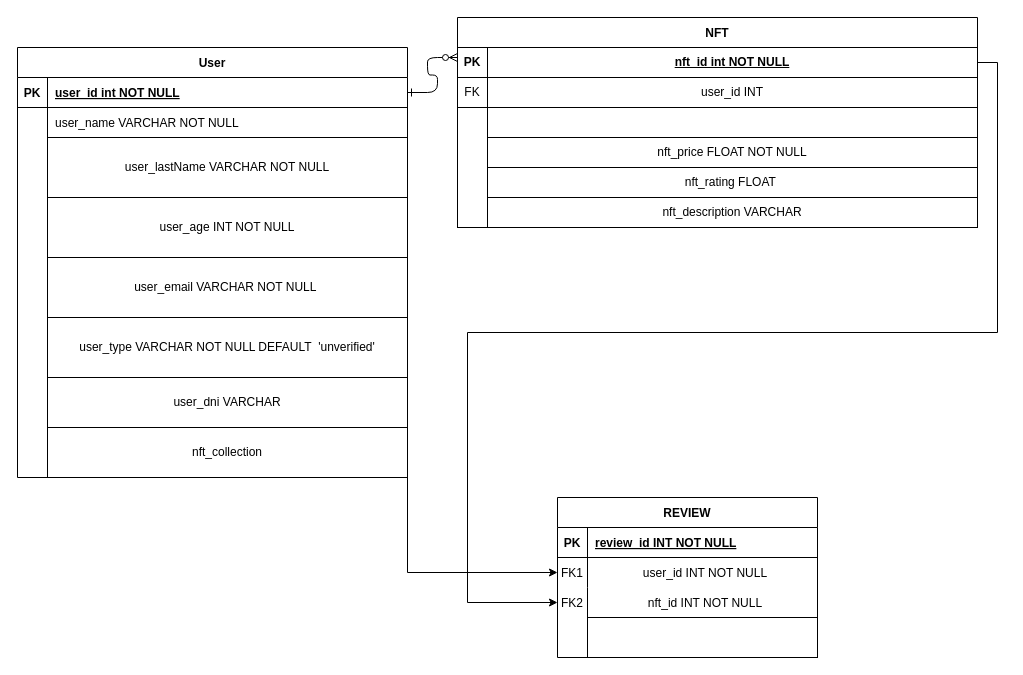
This 1023x675 diagram has some shape labels left out. The centre of each missing label's shape, as x and y in pixels:
nft_name VARCHAR NOT NULL: (x=732, y=122)
review_text VARCHAR NOT NULL: (x=702, y=637)
